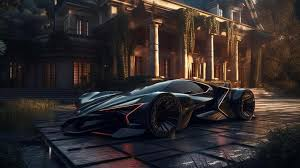car: (75, 77, 259, 137)
